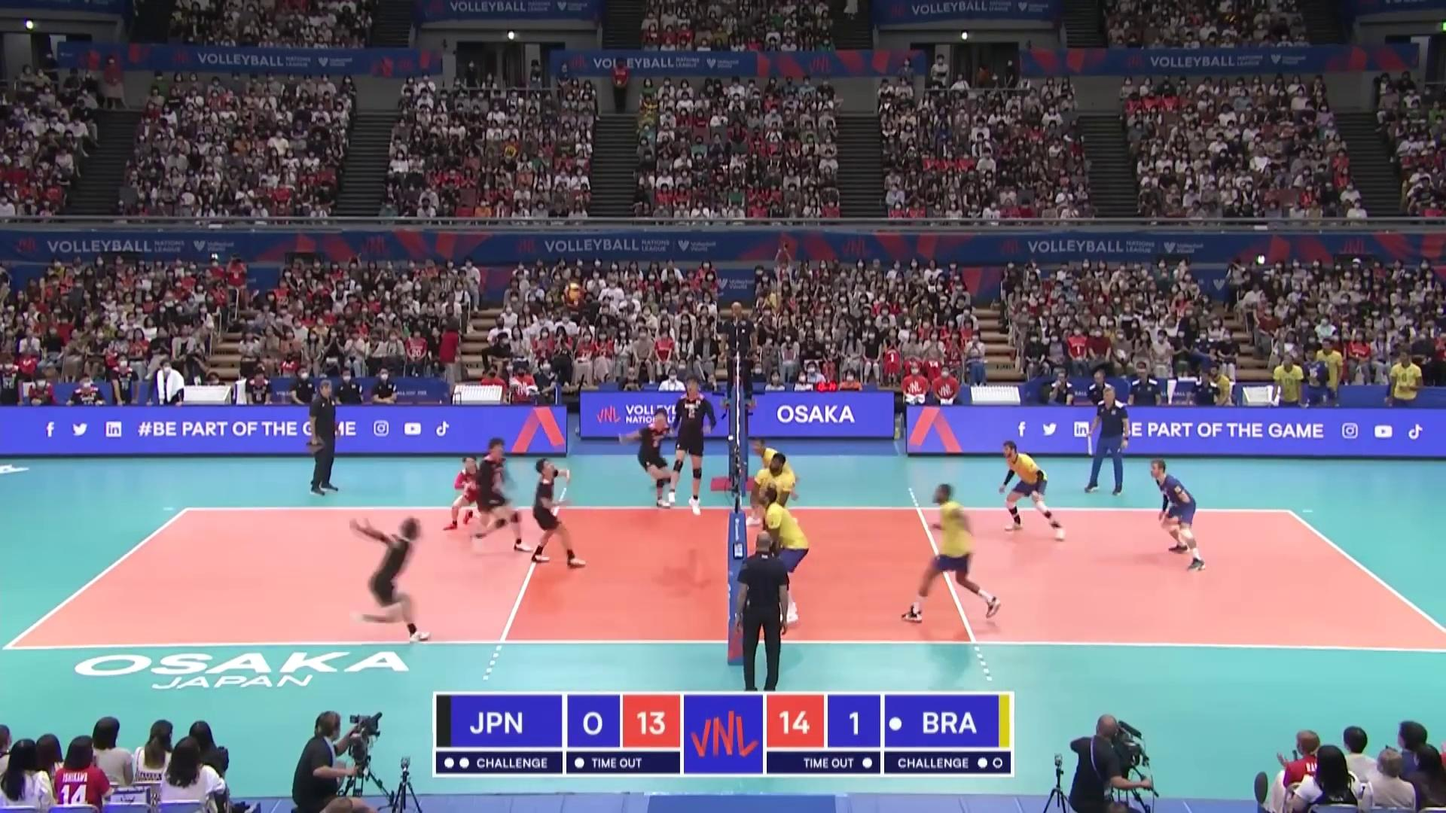player: (900, 483, 1004, 627), (351, 518, 430, 644), (755, 485, 810, 623), (667, 376, 715, 515), (472, 437, 529, 553), (1147, 460, 1205, 573), (997, 441, 1063, 539), (532, 460, 588, 568), (754, 454, 795, 583), (748, 435, 796, 532), (627, 409, 674, 508), (447, 453, 500, 536)
refree: (734, 531, 790, 690), (722, 302, 755, 410)
